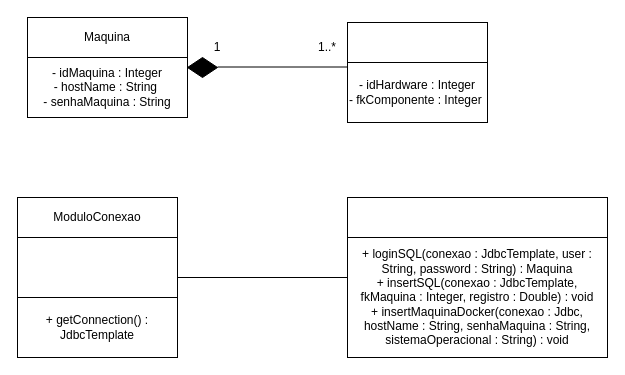
Some shapes in this 625 by 375 pixel diagram are drawn without their labels. The box of each missing label's shape, as (x1, y1, x2, y2) in pixels:
- ambiente : String - connection : JdbcTemplate: (16, 236, 178, 298)
HardMaquina: (346, 22, 488, 62)
Requests: (346, 196, 608, 238)
